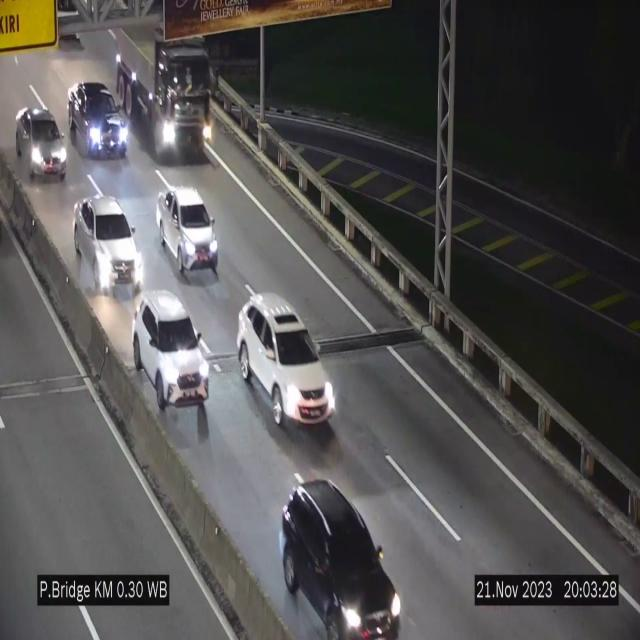Car: (281, 479, 401, 639), (237, 295, 336, 428), (133, 291, 209, 409), (68, 191, 142, 294), (156, 187, 218, 280), (66, 82, 130, 158), (15, 108, 67, 182)
Truck: (111, 25, 220, 161)
